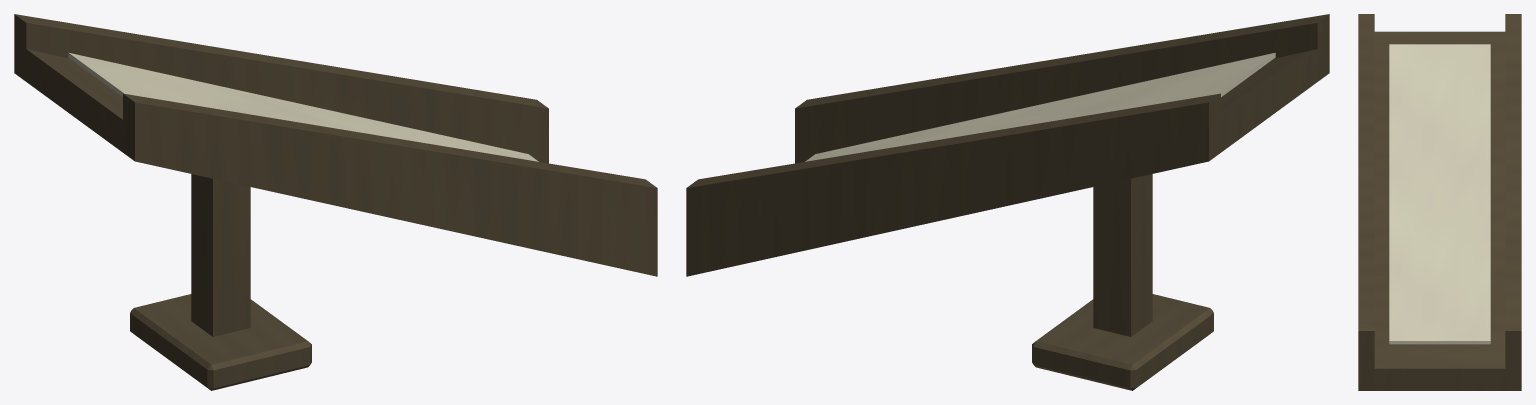
File: WarrensC_WVC024_SaltChute_Mars_SM.fbx
3 renders of one model, left to right at view 1: azimuth 30°, elevation 25°; view 2: azimuth 150°, elevation 25°; view 3: azimuth 270°, elevation 25°, orthographic. The views are drawn at different scales.
Visible parts, largest first — view 1: WarrensC_WVC024_SaltChute_Mars_SM.001; view 2: WarrensC_WVC024_SaltChute_Mars_SM.001; view 3: WarrensC_WVC024_SaltChute_Mars_SM.001.
Part boxes in pixels (x1=…): WarrensC_WVC024_SaltChute_Mars_SM.001: x1=14, y1=14, x2=657, y2=390; WarrensC_WVC024_SaltChute_Mars_SM.001: x1=686, y1=14, x2=1329, y2=390; WarrensC_WVC024_SaltChute_Mars_SM.001: x1=1358, y1=14, x2=1521, y2=390.
Size of the model in its own units: 200 by 80 by 120.
